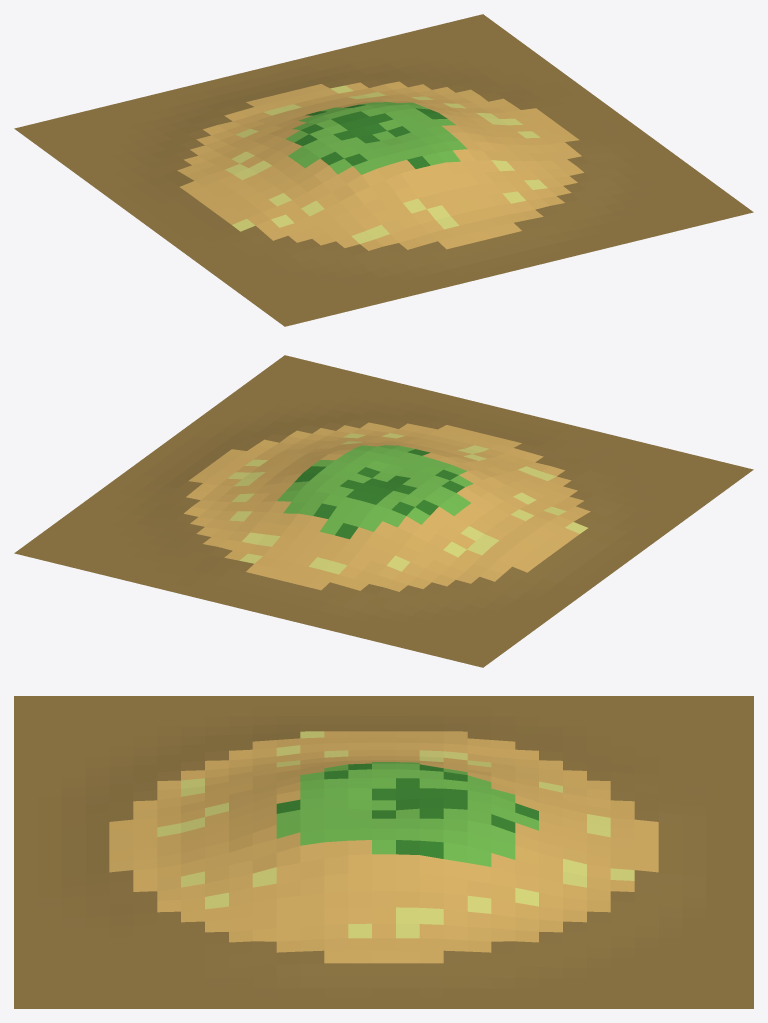
File: isla.fbx
The picture shows the model from 3 angles, top to bottom: view 1: azimuth 30°, elevation 25°; view 2: azimuth 150°, elevation 25°; view 3: azimuth 270°, elevation 25°; orthographic projection. The views are drawn at different scales.
Parts seen in each view (by area): view 1: isla; view 2: isla; view 3: isla.
Boxes of the visible parts, <box> form: isla: <box>14,14,753,326</box>; isla: <box>14,355,753,667</box>; isla: <box>14,696,753,1008</box>.
Size of the model in its own units: 286 by 20.95 by 286.
